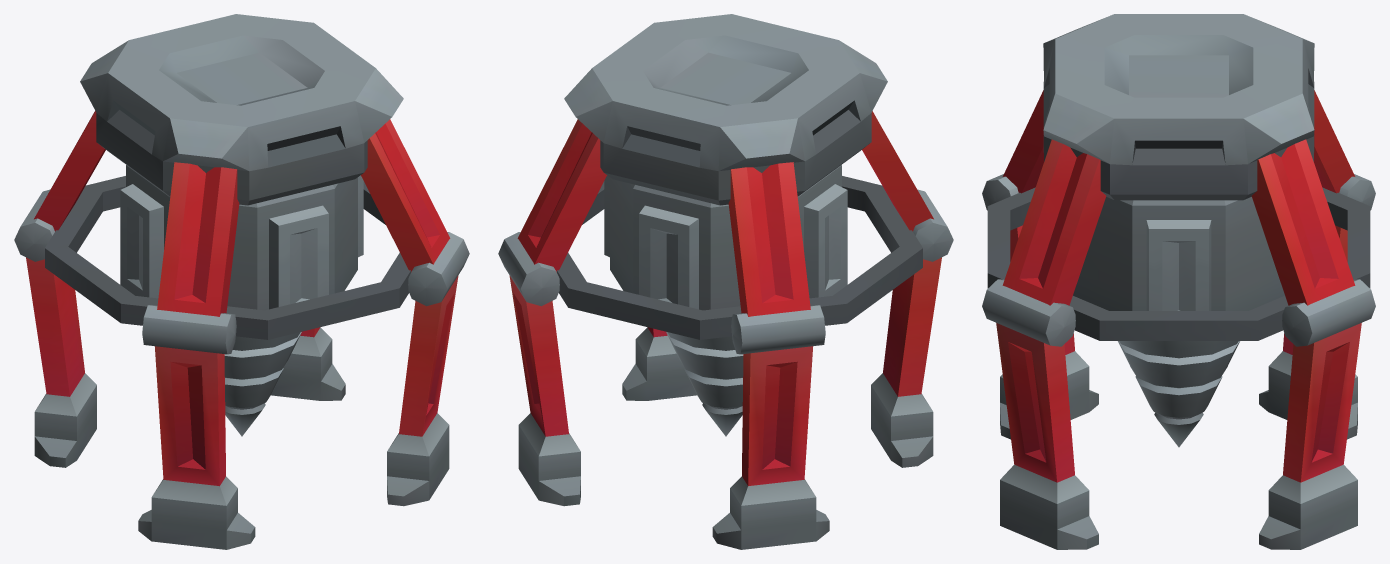
Rendered from drill_structure.glb.
3 renders of one model, left to right at view 1: azimuth 30°, elevation 25°; view 2: azimuth 150°, elevation 25°; view 3: azimuth 270°, elevation 25°, orthographic. The views are drawn at different scales.
Visible parts, largest first — view 1: Cylinder.2728, drill_module; view 2: Cylinder.2728, drill_module; view 3: Cylinder.2728, drill_module.
Part boxes in pixels (x1,y1,x2,y2): Cylinder.2728: (14,14,469,549); drill_module: (120,165,363,436); Cylinder.2728: (498,14,953,549); drill_module: (604,165,847,436); Cylinder.2728: (982,14,1375,549); drill_module: (1073,197,1284,447).
Size of the model in its own units: 1.75 by 2 by 1.75.
Materials: 1 (1 with a texture image).
